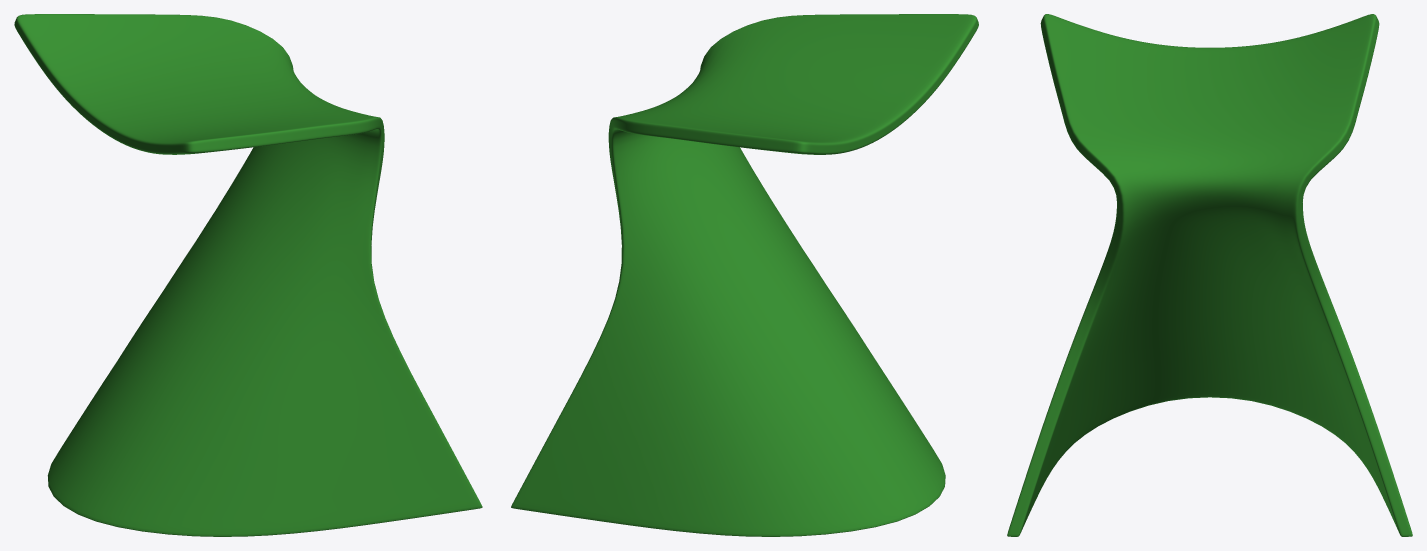
Rendered from mirlino fbx.FBX.
3 views of the same model, side by side, from view 1: azimuth 30°, elevation 25°; view 2: azimuth 150°, elevation 25°; view 3: azimuth 270°, elevation 25° (orthographic). The views are drawn at different scales.
Visible parts, largest first — view 1: mirlino; view 2: mirlino; view 3: mirlino.
Boxes of the visible parts, bbox=[...] form: mirlino: bbox=[14, 14, 482, 536]; mirlino: bbox=[511, 14, 978, 536]; mirlino: bbox=[1007, 14, 1412, 536].
Bounding box in the file's own units: 435 × 512 × 553.
